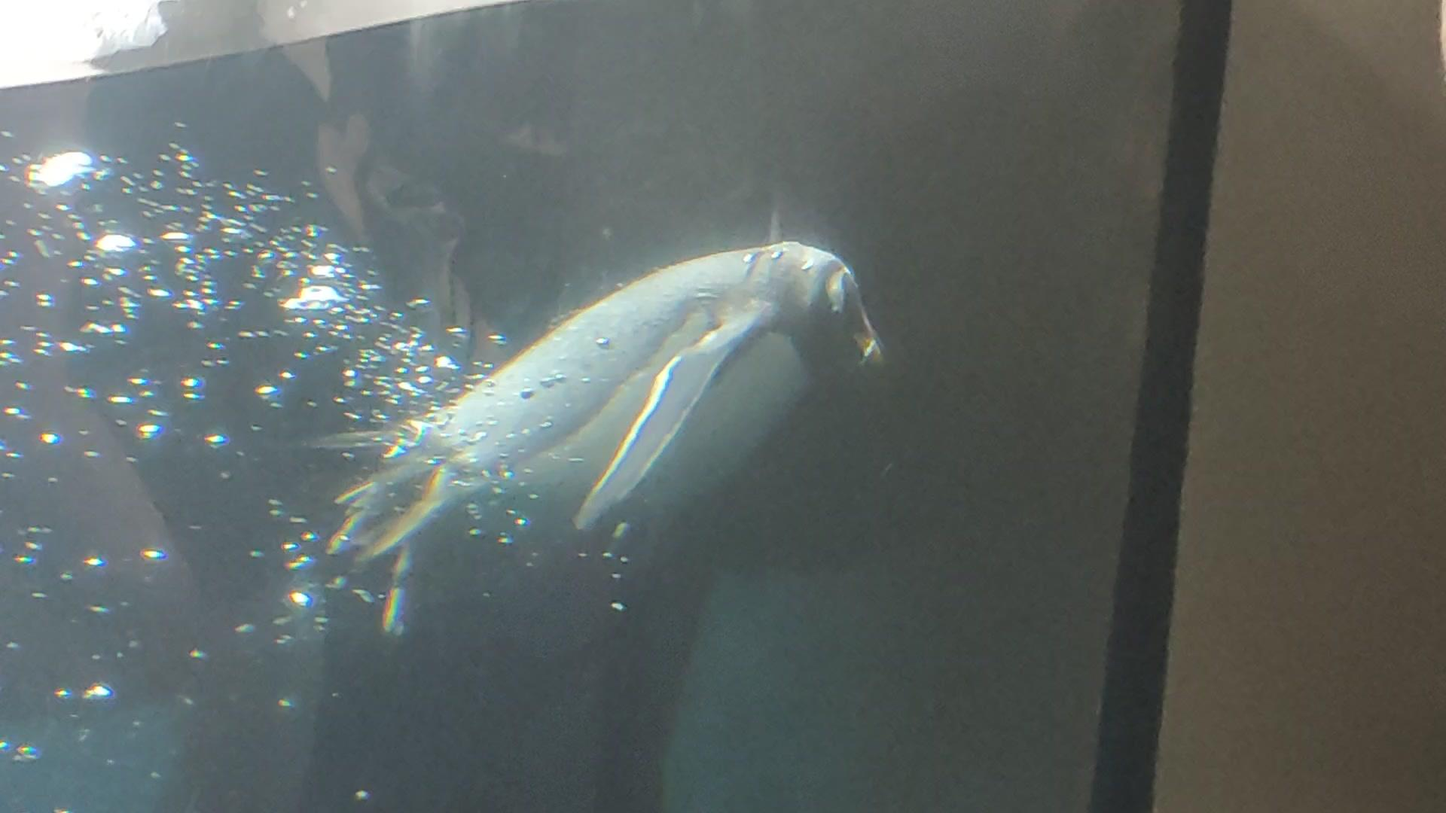apple: (304, 242, 888, 635)
